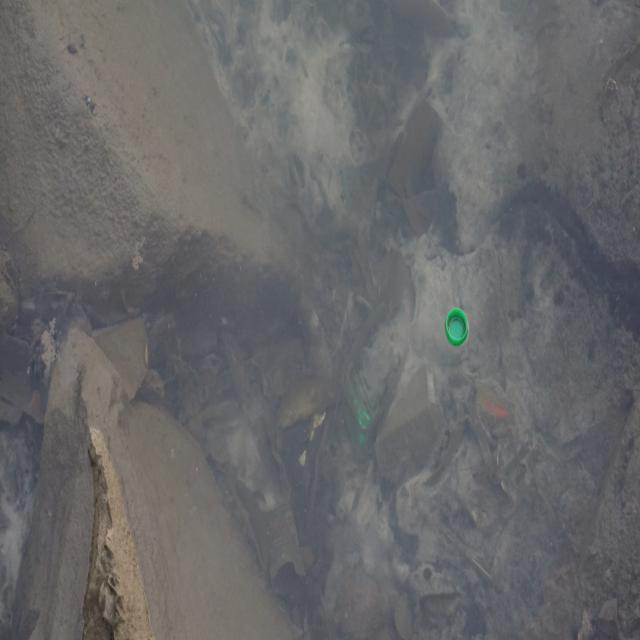Botol Plastik: (444, 298, 474, 362)
